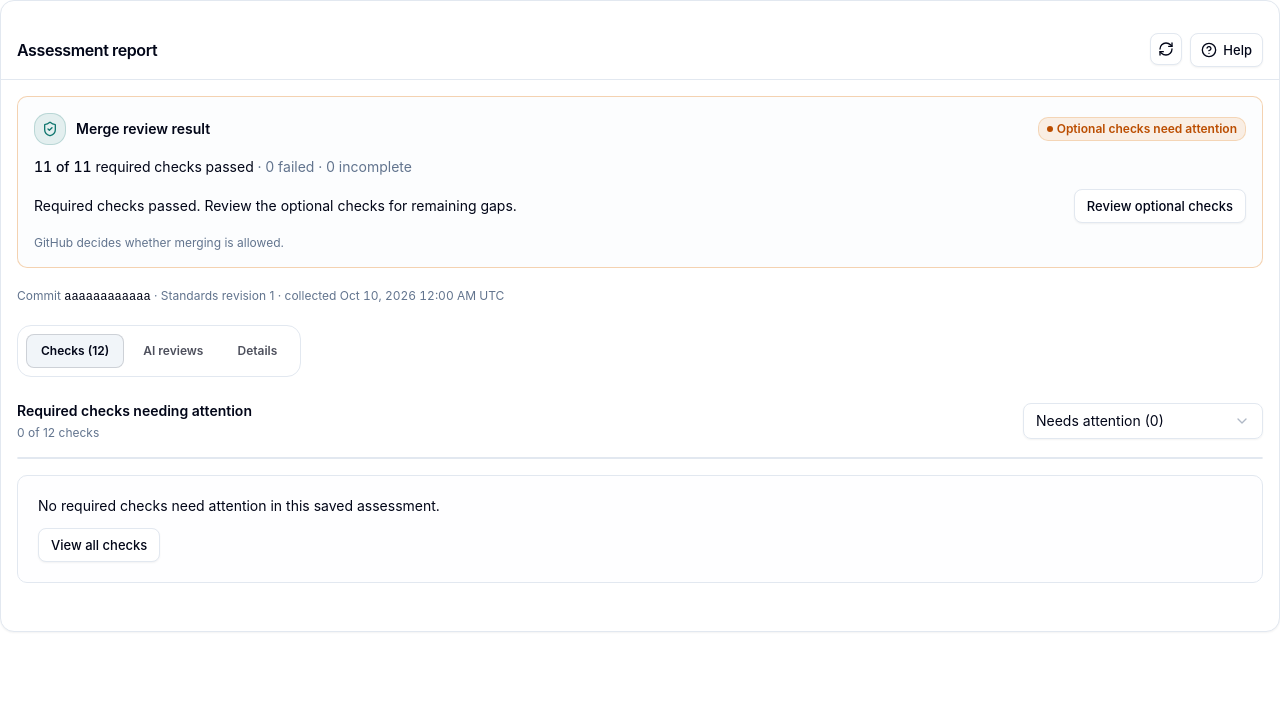
routes optional warnings to the optional checks using the result action
The width and height of the screenshot is (1280, 720).
Click the button "Review optional checks" at (1160, 206), box [1074, 189, 1246, 223]
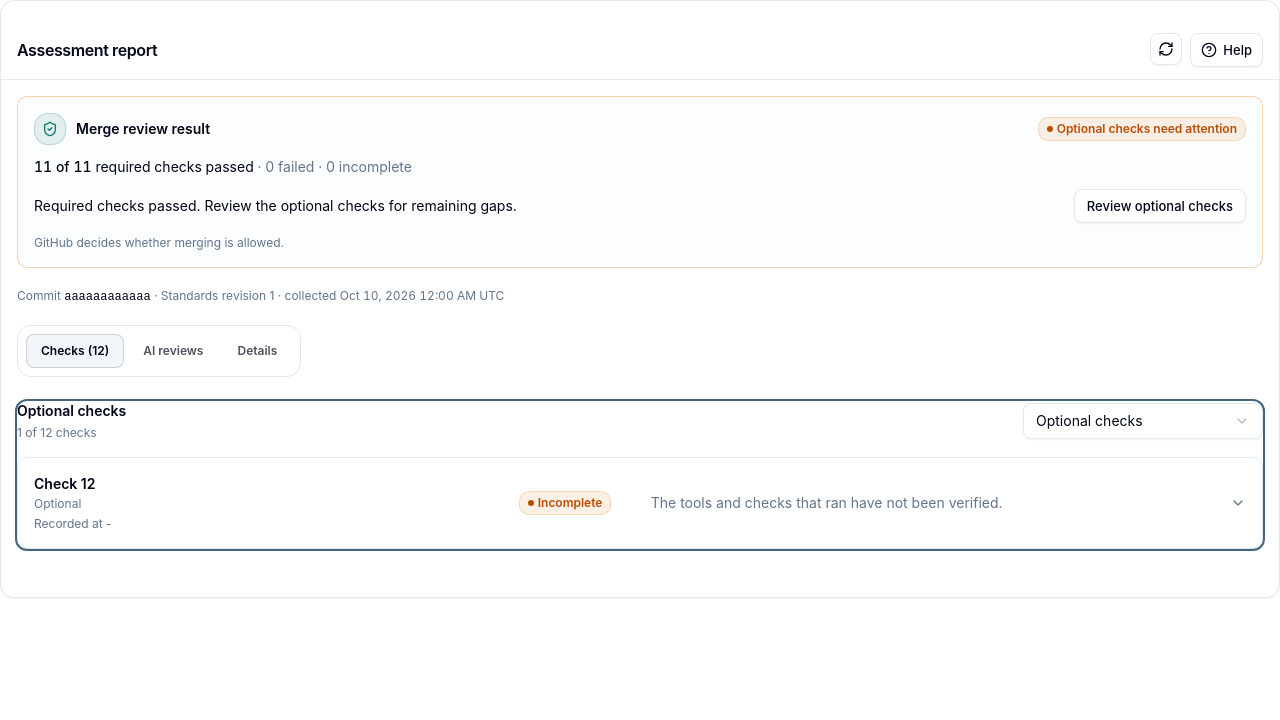
Expected: the text "Check 12" is shown, [34, 475, 96, 492]
Expected: the heading "Optional checks" is shown, [17, 401, 126, 421]
